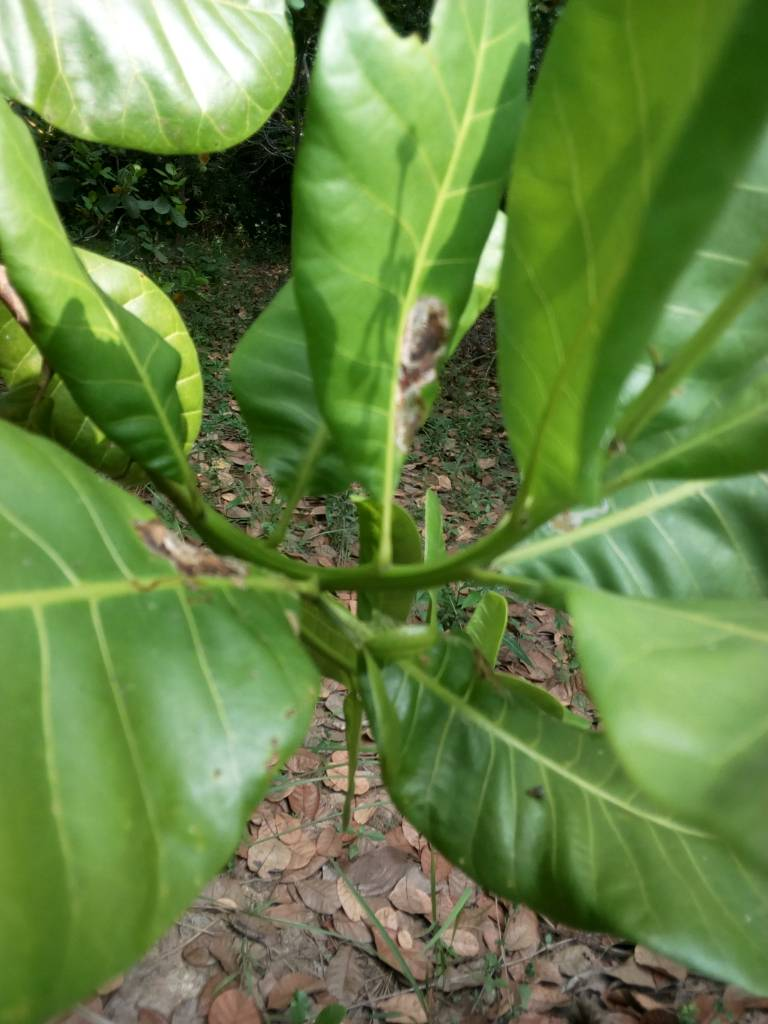Helopeltis anacardii: (355, 633, 716, 942), (1, 169, 194, 492)
